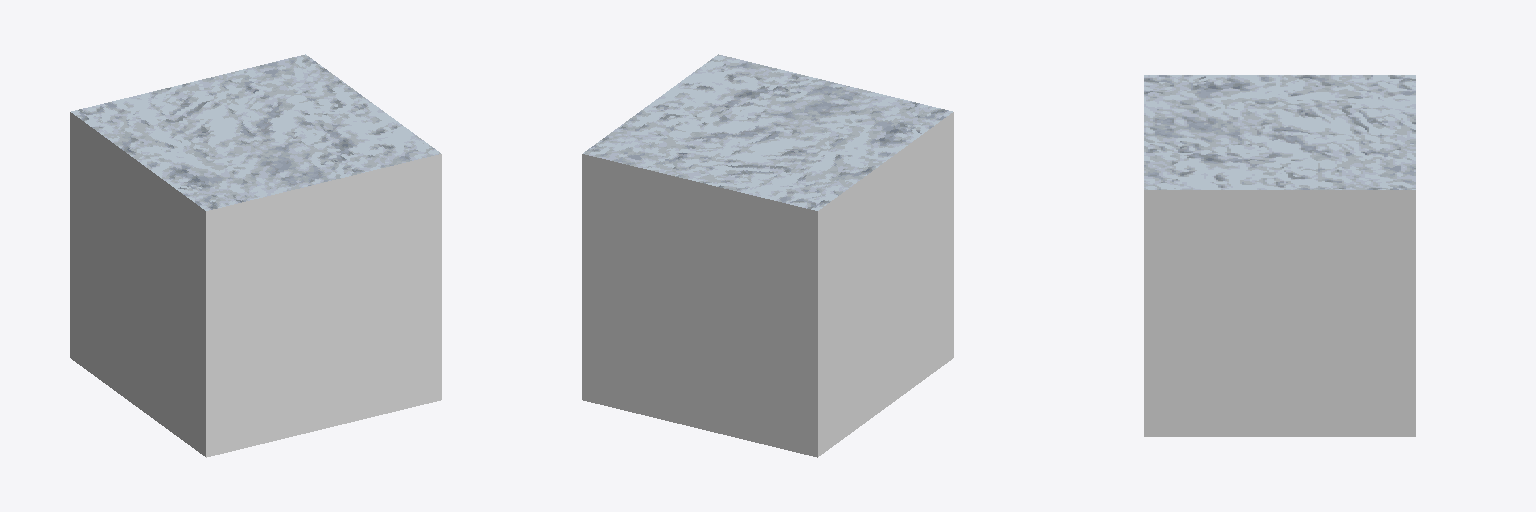
3 views of the same model, side by side, from view 1: azimuth 30°, elevation 25°; view 2: azimuth 150°, elevation 25°; view 3: azimuth 270°, elevation 25° (orthographic).
Visible parts, largest first — view 1: SnowMetalCrate; view 2: SnowMetalCrate; view 3: SnowMetalCrate.
Boxes of the visible parts, x1,y1,x2,y2 form: SnowMetalCrate: [70, 54, 441, 457]; SnowMetalCrate: [582, 54, 953, 457]; SnowMetalCrate: [1144, 75, 1415, 436].
Size of the model in its own units: 1 by 1 by 1.
Materials: 3 (2 with a texture image).